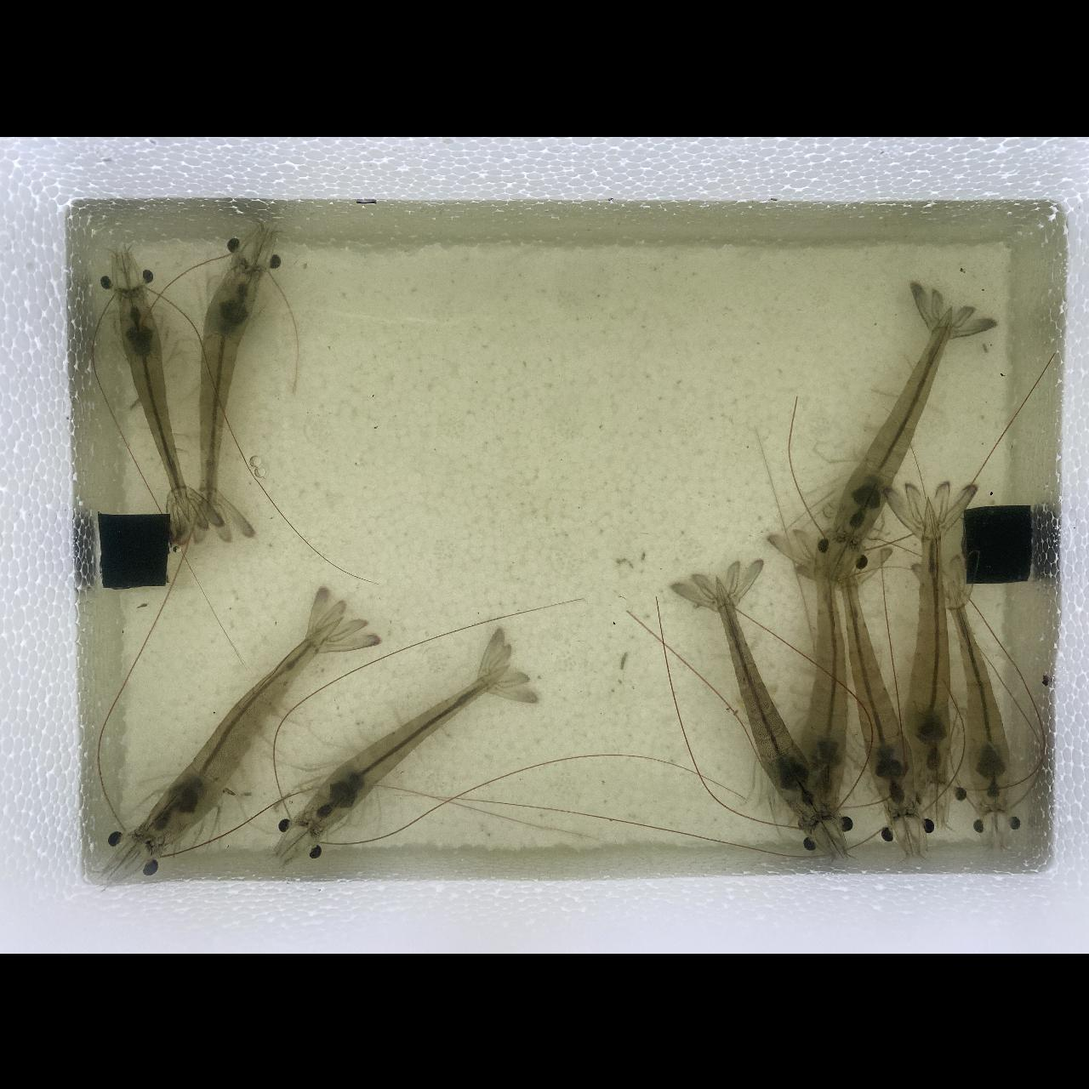box: (963, 504, 1031, 582), (97, 514, 168, 587)
top_shrimp: (141, 613, 339, 844), (303, 665, 502, 830), (834, 311, 951, 541), (717, 576, 824, 820), (839, 552, 915, 813), (197, 264, 257, 521), (946, 578, 1011, 812), (117, 291, 184, 512), (801, 536, 847, 806), (908, 492, 950, 782)
